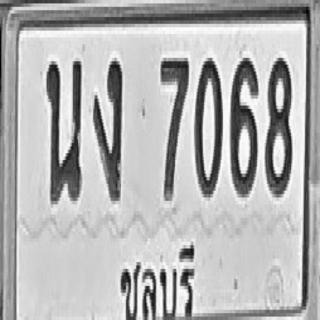A07: (93, 58, 122, 201)
A25: (45, 56, 82, 202)
N00: (195, 54, 222, 198)
N06: (230, 54, 258, 198)
N07: (160, 54, 189, 201)
N08: (265, 53, 292, 196)
P13: (114, 234, 197, 320)
